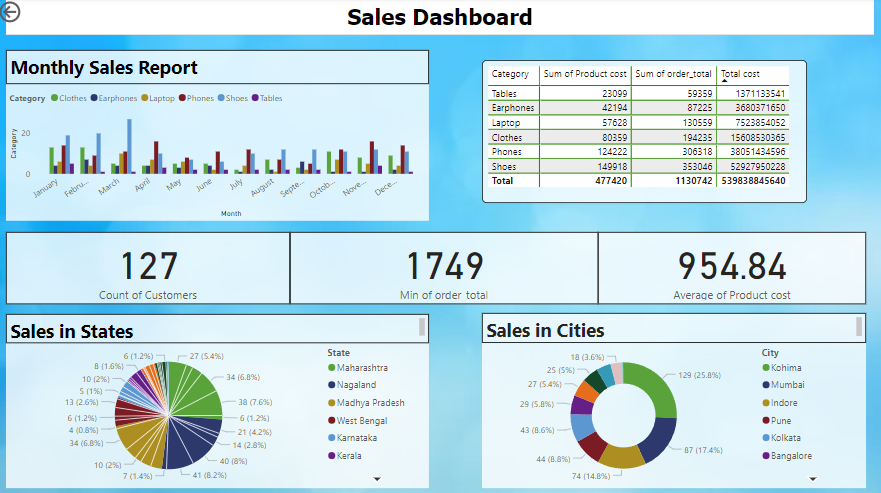

The page's visual inventory and layout, read from the dashboard file:
{"tool":"powerbi","page":{"name":"Page 1","canvas":[1280,720],"ordinal":0},"visuals":[{"type":"shape","title":"he","box":[14.4,0,1249.9,53.3],"z":0},{"type":"card","fields":{"Values":["Count(Orders.CustomerName)"]},"box":[14.4,337,409,103.7],"z":1000},{"type":"donutChart","fields":{"Category":["Orders.City"],"Y":["CountNonNull(Orders.Category)"]},"box":[699.8,496.8,553,208.8],"z":2000},{"type":"clusteredColumnChart","fields":{"Category":["Orders.Order Date.Variation.Date Hierarchy.Month"],"Y":["CountNonNull(Orders.Category)"],"Series":["Orders.Category"]},"box":[14.4,123.8,609.1,197.3],"z":3000},{"type":"actionButton","box":[0,0,100,40],"z":4000},{"type":"pieChart","fields":{"Category":["Orders.State"],"Series":["Orders.Category"],"Y":["CountNonNull(Orders.Category)"]},"box":[14.4,496.8,609.1,208.8],"z":5000},{"type":"textbox","box":[14.4,74.9,609.1,49],"z":6000},{"type":"textbox","box":[14.4,455,609.1,41.8],"z":7000},{"type":"textbox","box":[699.8,453.6,553,43.2],"z":8000},{"type":"pivotTable","fields":{"Rows":["Orders.Category"],"Values":["Sum(Orders.Product cost)","Sum(Orders.order_total)","Orders.Total cost"]},"box":[699.8,89.3,468,205.9],"z":9000},{"type":"card","fields":{"Values":["Min(Orders.order_total)"]},"box":[423.4,337,443.5,103.7],"z":10000},{"type":"card","fields":{"Values":["Avg(Orders.Product cost)"]},"box":[866.9,337,385.9,103.7],"z":11000}]}

Visuals, with their boxes in screenshot pixels (x1, y1, x2, y2), scaled from the page's 1280x720 canvas onto the 881x493 screenshot:
"he" shape: detection(10, 0, 870, 36)
card - Count(Orders.CustomerName): detection(10, 231, 291, 302)
donutChart - Orders.City x CountNonNull(Orders.Category): detection(482, 340, 862, 483)
clusteredColumnChart - Orders.Order Date.Variation.Date Hierarchy.Month x CountNonNull(Orders.Category): detection(10, 85, 429, 220)
actionButton: detection(0, 0, 69, 27)
pieChart - Orders.State x Orders.Category: detection(10, 340, 429, 483)
textbox: detection(10, 51, 429, 85)
textbox: detection(10, 312, 429, 340)
textbox: detection(482, 311, 862, 340)
pivotTable - Orders.Category x Sum(Orders.Product cost): detection(482, 61, 804, 202)
card - Min(Orders.order_total): detection(291, 231, 597, 302)
card - Avg(Orders.Product cost): detection(597, 231, 862, 302)
